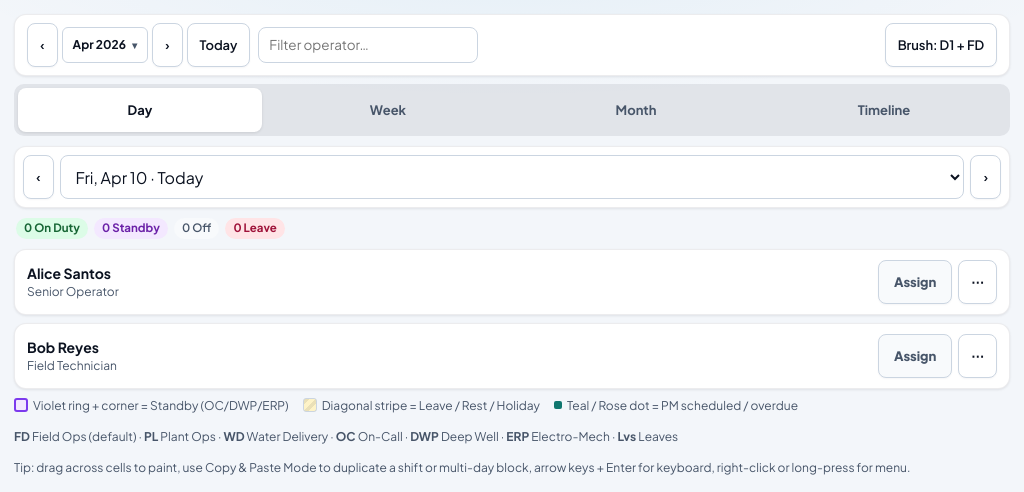
Test: Roster › renders operators and filters the grid when searching by name or position
Type "Bob" into the search field with placeholder "Filter operator…" at (368, 45), box [258,27,478,63]
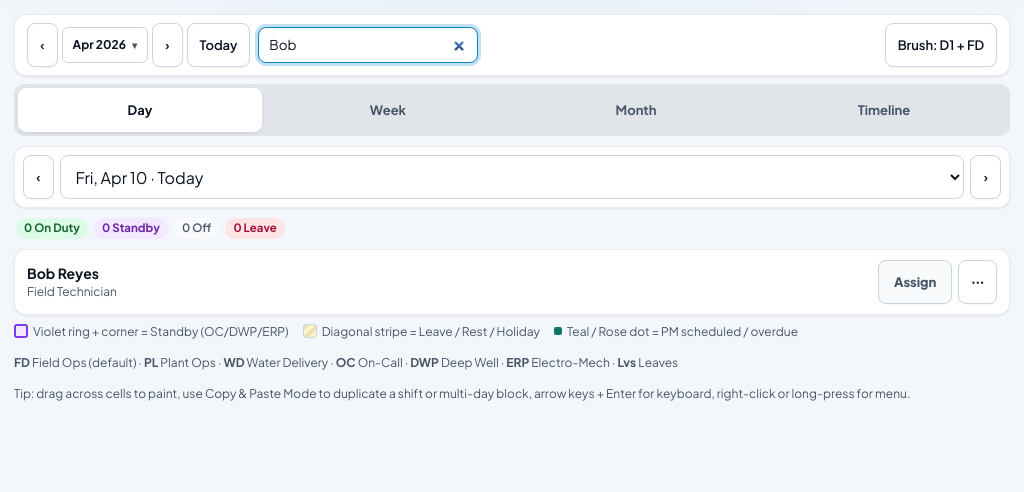
Now the text "Alice Santos" is gone
